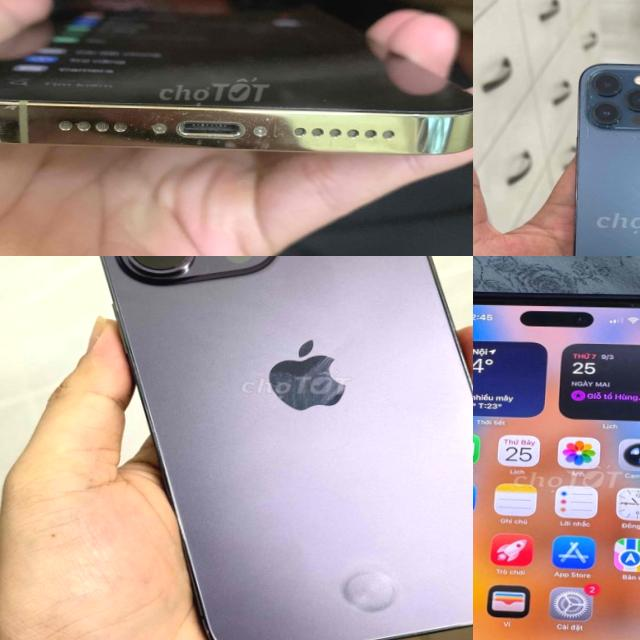gen_12_13: (565, 54, 640, 256)
gen_14: (67, 256, 473, 640), (0, 0, 473, 180), (473, 283, 640, 640)
physical_damage: (574, 143, 640, 256), (580, 61, 640, 145), (338, 562, 400, 618)
scratch: (67, 90, 420, 167)
